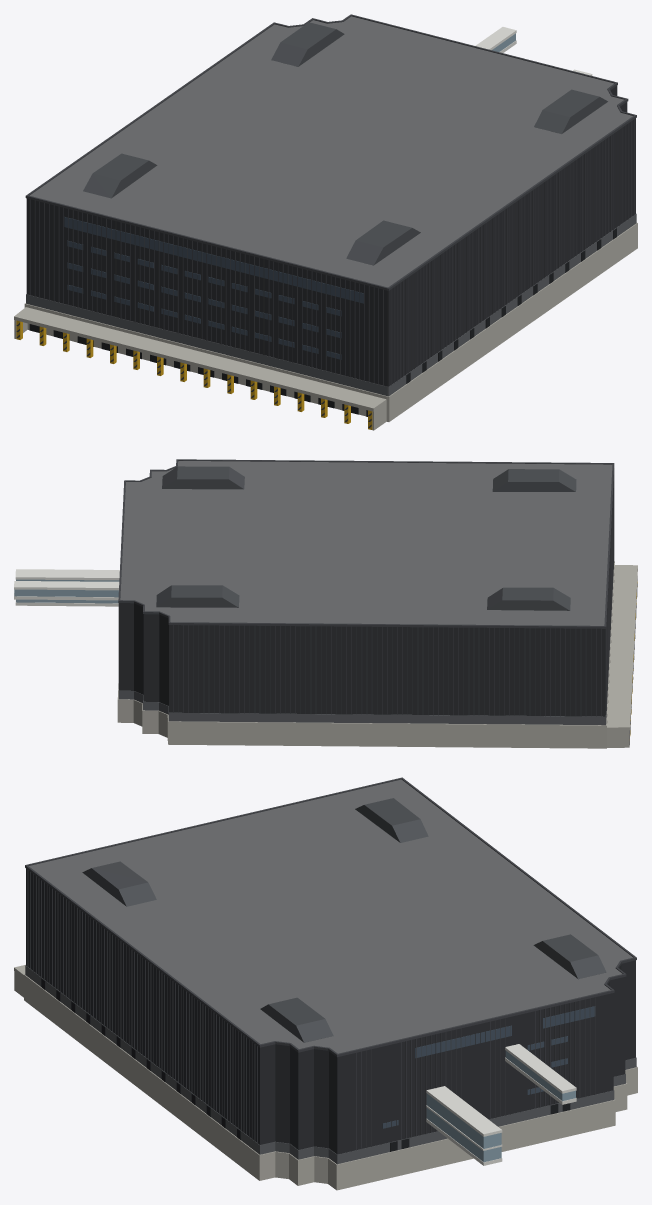
File: ziggo-dome.glb
The picture shows the model from 3 angles, top to bottom: view 1: azimuth 30°, elevation 25°; view 2: azimuth 150°, elevation 25°; view 3: azimuth 270°, elevation 25°; orthographic projection. The views are drawn at different scales.
Parts seen in each view (by area): view 1: ziggo-dome; view 2: ziggo-dome; view 3: ziggo-dome.
Boxes of the visible parts, x1,y1,x2,y2 form: ziggo-dome: [14, 14, 637, 430]; ziggo-dome: [14, 459, 637, 748]; ziggo-dome: [14, 777, 637, 1190].
Bounding box in the file's own units: 155 × 34.1 × 132.
